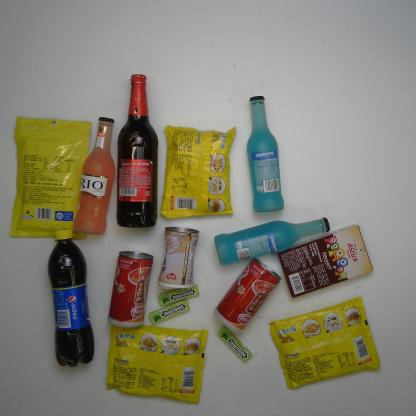Alcohol: (117, 72, 161, 229), (214, 218, 331, 266), (74, 116, 115, 235), (246, 94, 286, 213)
Canned Food: (214, 258, 281, 334), (107, 250, 153, 332), (156, 226, 204, 290)
Dessert: (278, 224, 376, 298)
Dried Fruit: (10, 112, 92, 241)
Drink: (45, 226, 96, 369)
Gum: (214, 326, 254, 366), (148, 300, 192, 324), (158, 282, 200, 307)
Instant Noodles: (270, 299, 381, 391), (105, 320, 211, 404), (160, 124, 236, 221)
